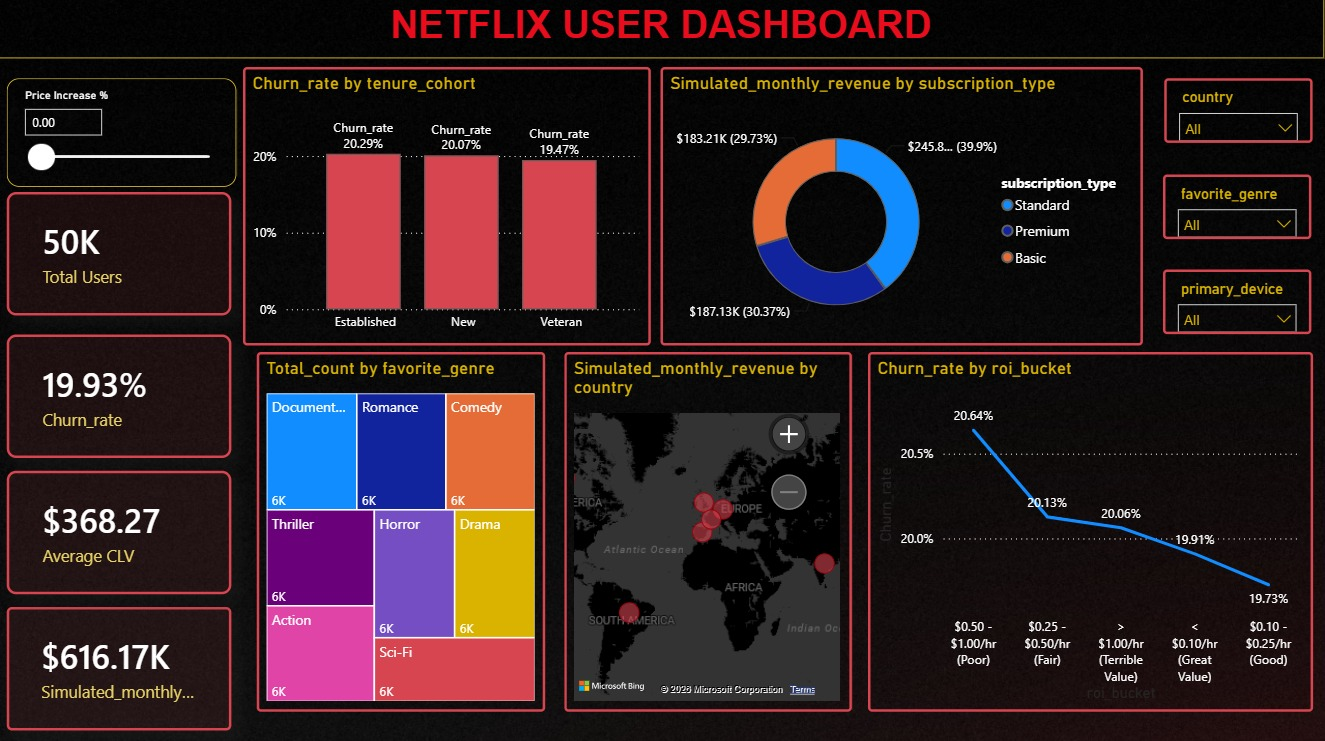

This screenshot's page, from the dashboard's own definition file:
{"tool":"powerbi","page":{"name":"Page 1","canvas":[1280,720],"ordinal":0},"visuals":[{"type":"slicer","fields":{"Values":["Price Increase %.Price Increase %"]},"box":[8.4,78.4,222,105],"z":0},{"type":"textbox","box":[0,0,1280,59.1],"z":1000},{"type":"cardVisual","fields":{"Data":["netflix_powerbi_ready.Total_count"]},"box":[8.4,188.2,217.2,119.4],"z":2000},{"type":"cardVisual","fields":{"Data":["netflix_powerbi_ready.Simulated_monthly_revenue"]},"box":[8.4,588.7,217,119],"z":3000},{"type":"cardVisual","fields":{"Data":["netflix_powerbi_ready.Churn_rate"]},"box":[8.4,325.7,217,119],"z":4000},{"type":"cardVisual","fields":{"Data":["netflix_powerbi_ready.Average CLV"]},"box":[8.4,457.2,217,119],"z":5000},{"type":"clusteredColumnChart","fields":{"Category":["netflix_powerbi_ready.tenure_cohort"],"Y":["netflix_powerbi_ready.Churn_rate"]},"box":[236.5,67.6,393.3,269],"z":6000},{"type":"donutChart","fields":{"Category":["netflix_powerbi_ready.subscription_type"],"Y":["netflix_powerbi_ready.Simulated_monthly_revenue"]},"box":[639.4,67.6,465.7,269],"z":7000},{"type":"lineChart","fields":{"Category":["netflix_powerbi_ready.roi_bucket"],"Y":["netflix_powerbi_ready.Churn_rate"]},"box":[839.7,342.6,429.5,347.5],"z":8000},{"type":"slicer","fields":{"Values":["netflix_powerbi_ready.country"]},"box":[1125.6,78.4,143.6,62.7],"z":9000},{"type":"slicer","fields":{"Values":["netflix_powerbi_ready.primary_device"]},"box":[1124.4,263,143.6,62.7],"z":10000},{"type":"slicer","fields":{"Values":["netflix_powerbi_ready.favorite_genre"]},"box":[1124.4,171.3,143.6,62.7],"z":11000},{"type":"map","fields":{"Category":["netflix_powerbi_ready.country"],"Size":["netflix_powerbi_ready.Simulated_monthly_revenue"]},"box":[546.5,342.6,277.5,347.5],"z":12000},{"type":"treemap","fields":{"Group":["netflix_powerbi_ready.favorite_genre"],"Values":["netflix_powerbi_ready.Total_count"]},"box":[249.7,342.6,278.7,347.5],"z":13000}]}

Visuals, with their boxes in screenshot pixels (x1, y1, x2, y2), scaled from the page's 1280x720 canvas onto the 1325x741 screenshot:
slicer - Price Increase %.Price Increase %: left=9, top=81, right=238, bottom=189
textbox: left=0, top=0, right=1324, bottom=61
cardVisual - netflix_powerbi_ready.Total_count: left=9, top=194, right=234, bottom=317
cardVisual - netflix_powerbi_ready.Simulated_monthly_revenue: left=9, top=606, right=233, bottom=728
cardVisual - netflix_powerbi_ready.Churn_rate: left=9, top=335, right=233, bottom=458
cardVisual - netflix_powerbi_ready.Average CLV: left=9, top=471, right=233, bottom=593
clusteredColumnChart - netflix_powerbi_ready.tenure_cohort x netflix_powerbi_ready.Churn_rate: left=245, top=70, right=652, bottom=346
donutChart - netflix_powerbi_ready.subscription_type x netflix_powerbi_ready.Simulated_monthly_revenue: left=662, top=70, right=1144, bottom=346
lineChart - netflix_powerbi_ready.roi_bucket x netflix_powerbi_ready.Churn_rate: left=869, top=353, right=1314, bottom=710
slicer - netflix_powerbi_ready.country: left=1165, top=81, right=1314, bottom=145
slicer - netflix_powerbi_ready.primary_device: left=1164, top=271, right=1313, bottom=335
slicer - netflix_powerbi_ready.favorite_genre: left=1164, top=176, right=1313, bottom=241
map - netflix_powerbi_ready.country x netflix_powerbi_ready.Simulated_monthly_revenue: left=566, top=353, right=853, bottom=710
treemap - netflix_powerbi_ready.favorite_genre x netflix_powerbi_ready.Total_count: left=258, top=353, right=547, bottom=710
